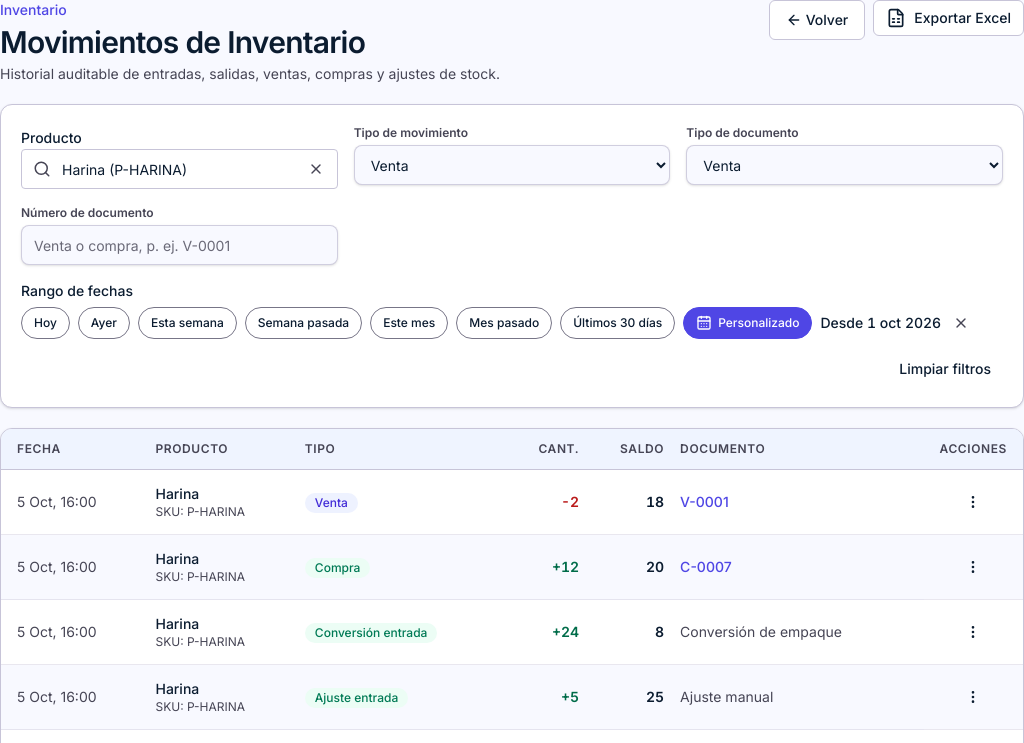
Test: InventoryMovementsPage · filtros en servidor y en la URL › estado en la URL › clears every filter with 'Limpiar filtros' and keeps returnTo
What coordinates should you click on to do the following:
click the button "Limpiar filtros"
I would click on:
 (945, 369)
Its box is [887,351,1003,387].
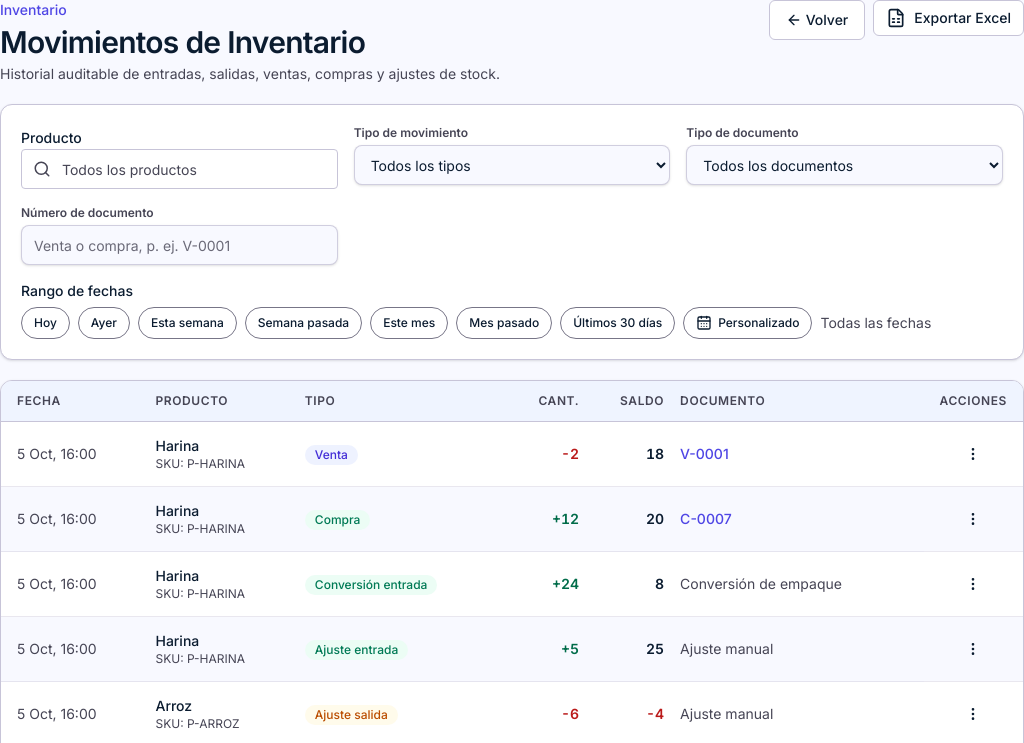
Check: the dropdown labelled "Producto" is empty, box [21,149,338,189]
